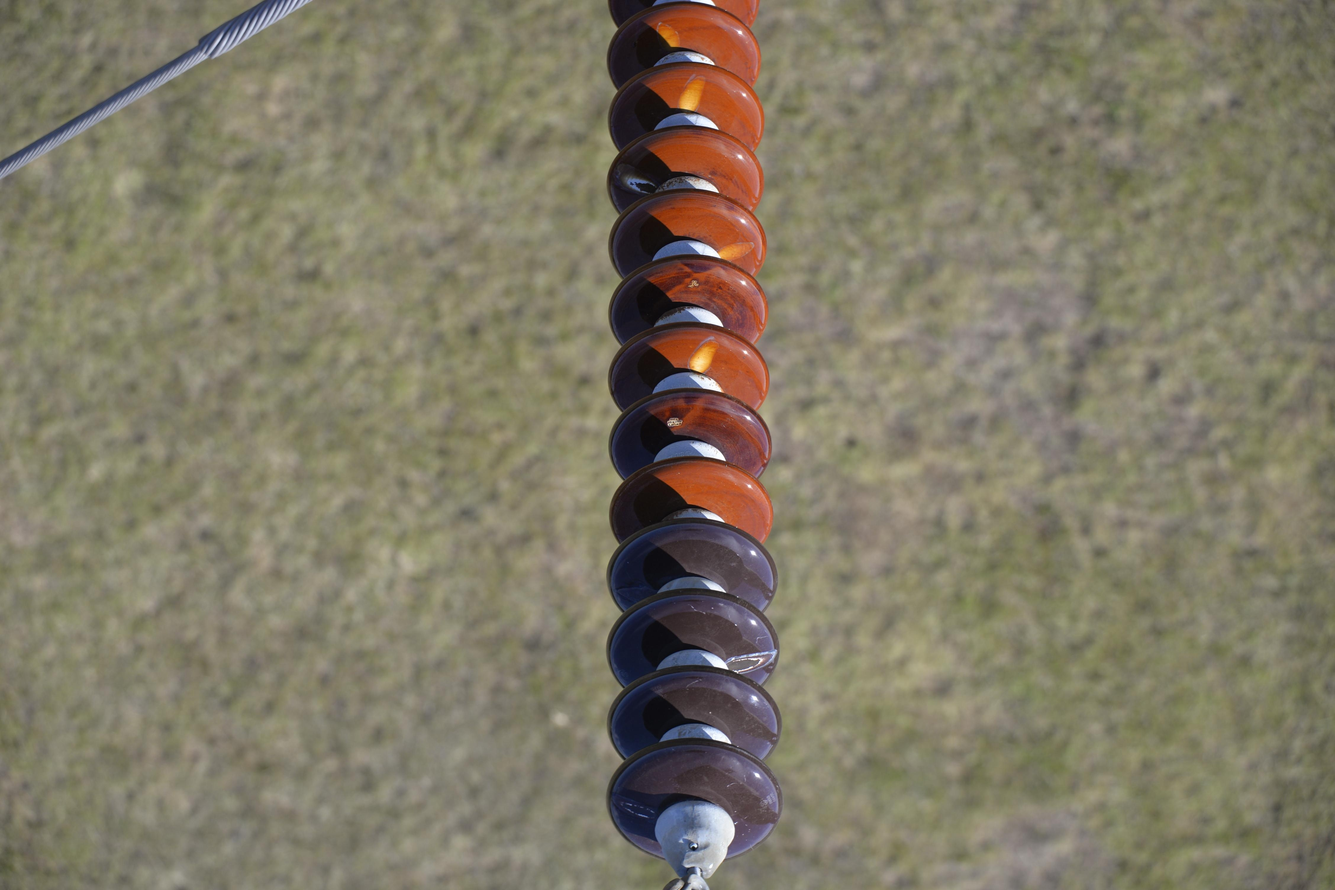Flashover: (610, 792, 657, 825), (724, 648, 778, 675), (615, 166, 657, 197), (686, 337, 720, 375), (676, 74, 707, 113), (717, 239, 754, 263), (655, 23, 684, 52)
insulator: (599, 0, 780, 869)
